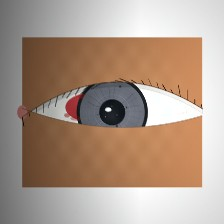hemorrhage_spot: (55, 77, 131, 138)
